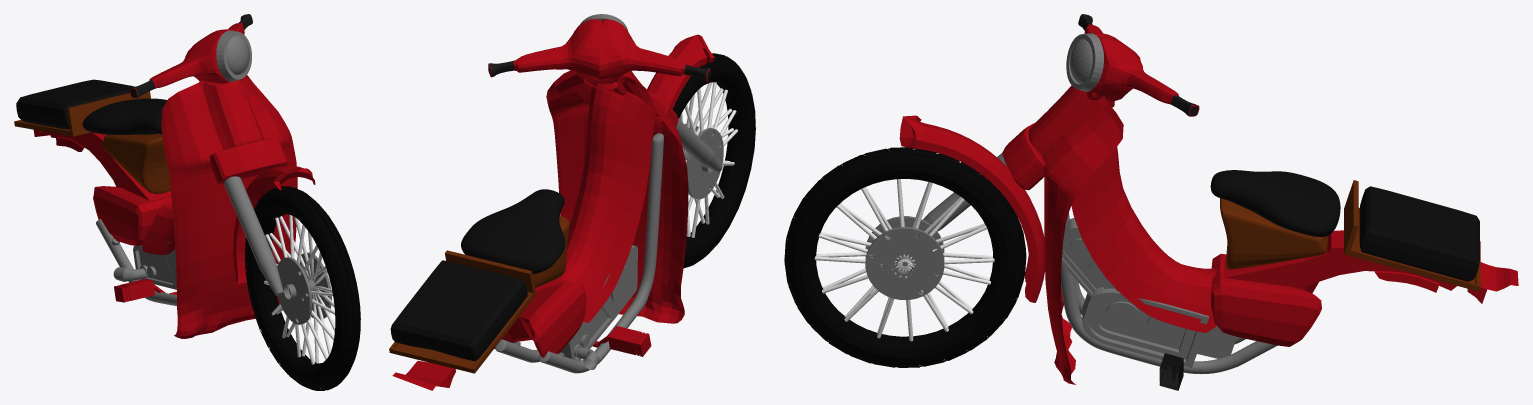
The model's file is 3D_MotorcycleBrokenHarsya.fbx.
The picture shows the model from 3 angles, left to right: view 1: azimuth 30°, elevation 25°; view 2: azimuth 150°, elevation 25°; view 3: azimuth 270°, elevation 25°; orthographic projection. The views are drawn at different scales.
Visible parts, largest first — view 1: Motor.001; view 2: Motor.001; view 3: Motor.001.
Part boxes in pixels (left/top/right/bottom): Motor.001: left=14, top=14, right=360, bottom=390; Motor.001: left=389, top=14, right=755, bottom=390; Motor.001: left=784, top=14, right=1518, bottom=390.
Bounding box in the file's own units: 69.77 × 117 × 232.
